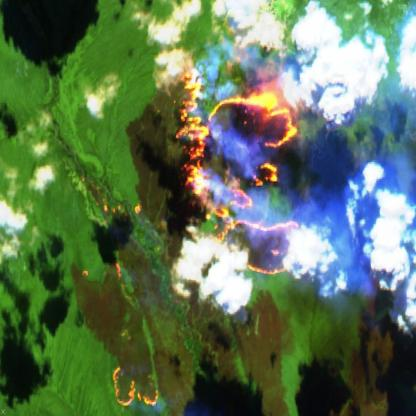fire: (174, 47, 305, 279), (111, 364, 161, 410)
